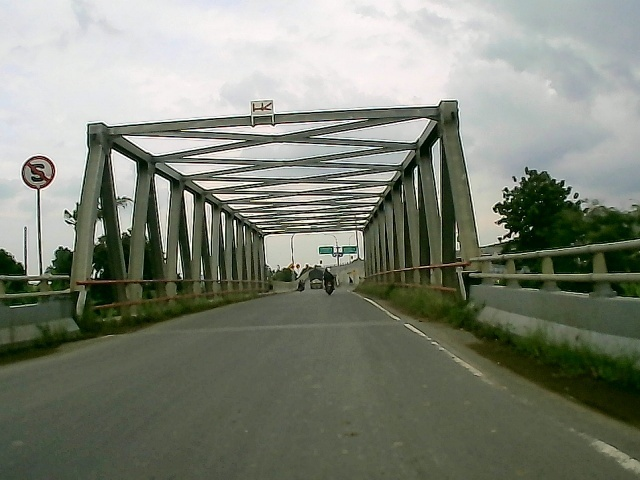Dilarang berhenti: (19, 154, 58, 189)
